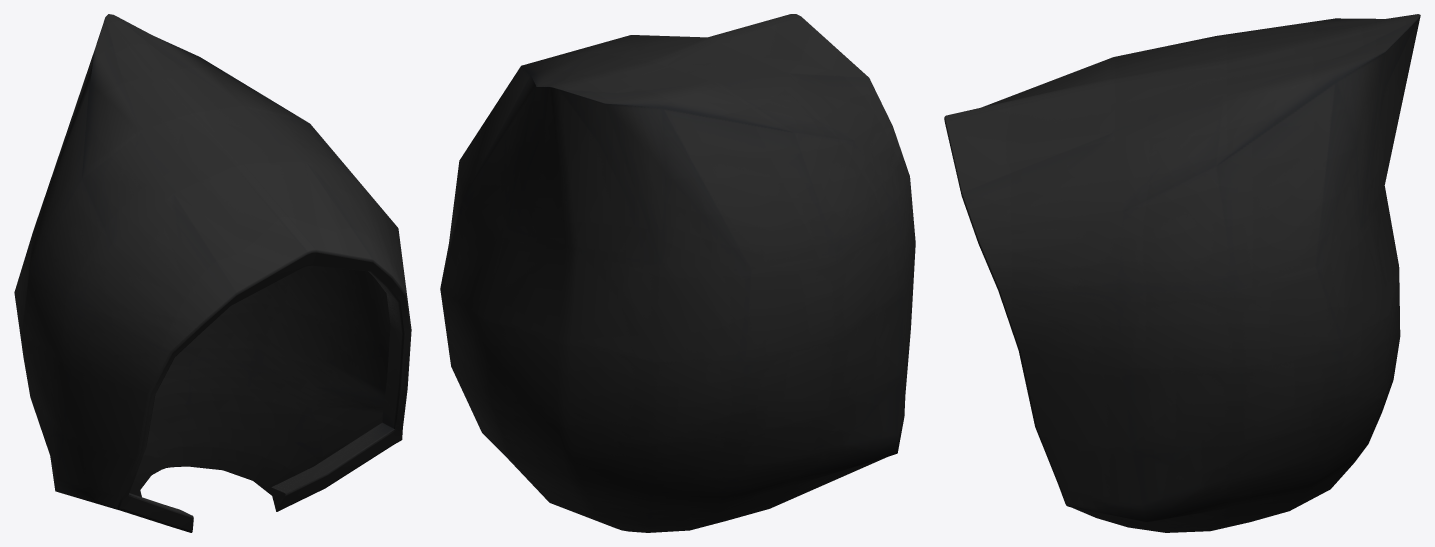
File: Warrior_Hat.glb
3 renders of one model, left to right at view 1: azimuth 30°, elevation 25°; view 2: azimuth 150°, elevation 25°; view 3: azimuth 270°, elevation 25°, orthographic. The views are drawn at different scales.
Parts seen in each view (by area): view 1: Warrior_Hat; view 2: Warrior_Hat; view 3: Warrior_Hat.
Part boxes in pixels (x1,y1,x2,y2): Warrior_Hat: [14, 14, 411, 532]; Warrior_Hat: [440, 14, 915, 532]; Warrior_Hat: [944, 14, 1420, 532].
Size of the model in its own units: 0.5892 by 0.6881 by 0.609.
Materials: 1 (1 with a texture image).
